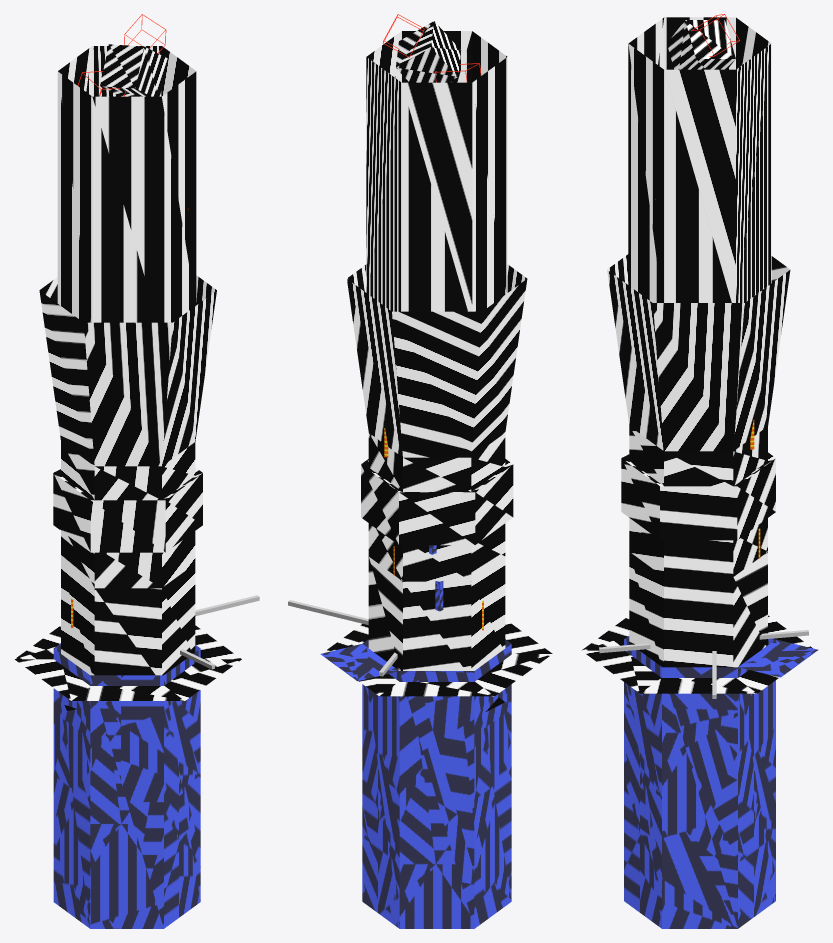
The model's file is collision-world-04.glb.
3 renders of one model, left to right at view 1: azimuth 30°, elevation 25°; view 2: azimuth 150°, elevation 25°; view 3: azimuth 270°, elevation 25°, orthographic. The views are drawn at different scales.
Visible parts, largest first — view 1: Cylinder.014, Cylinder.013, Cylinder.015, Cube.115; view 2: Cylinder.014, Cylinder.015, Cylinder.013, Cube.115; view 3: Cylinder.014, Cylinder.015, Cylinder.013, Cube.115, Cube.125.
Boxes of the visible parts, x1=… form: Cylinder.014: x1=14, y1=275, x2=241, y2=700; Cylinder.013: x1=57, y1=46, x2=196, y2=322; Cylinder.015: x1=53, y1=643, x2=200, y2=928; Cube.115: x1=100, y1=44, x2=168, y2=96; Cylinder.014: x1=322, y1=264, x2=552, y2=696; Cylinder.015: x1=320, y1=639, x2=511, y2=928; Cylinder.013: x1=366, y1=31, x2=507, y2=311; Cube.115: x1=396, y1=21, x2=461, y2=82; Cylinder.014: x1=581, y1=254, x2=812, y2=693; Cylinder.015: x1=624, y1=636, x2=818, y2=928; Cylinder.013: x1=628, y1=17, x2=771, y2=302; Cube.115: x1=667, y1=20, x2=735, y2=69; Cube.125: x1=599, y1=630, x2=808, y2=653.
Size of the model in its own units: 40.97 by 153 by 36.57.
13 materials, 12 textured.
